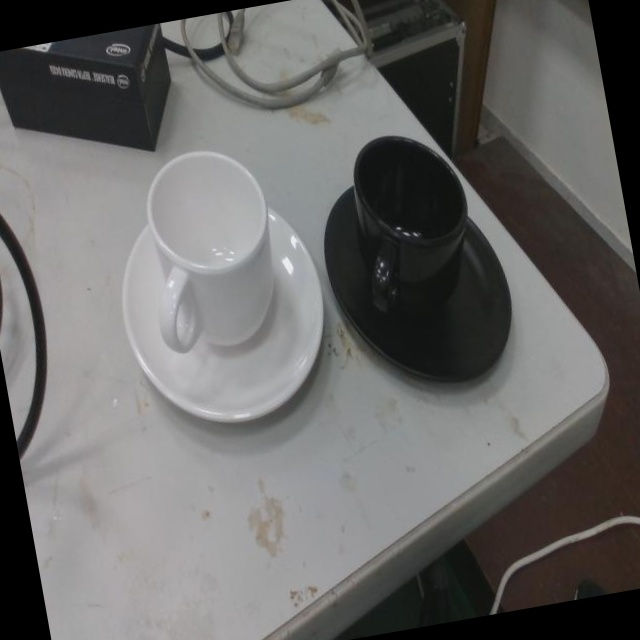black: (325, 129, 506, 398)
white: (117, 144, 322, 430)
